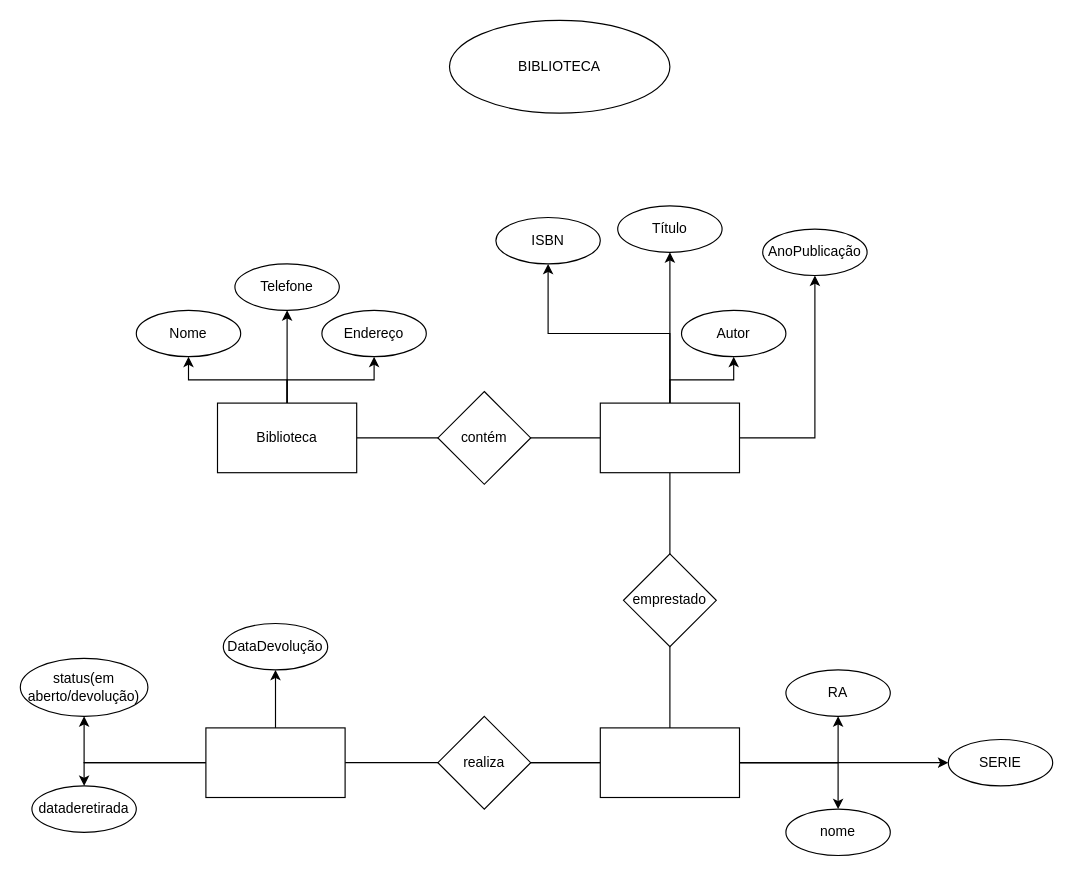
Some shapes in this 1073 by 876 pixel diagram are drawn without their labels. Each missing label, with the centre of its shape:
"alunos" goes at [669,762].
"Empréstimo" goes at [275,762].
"Livro" goes at [669,437].
